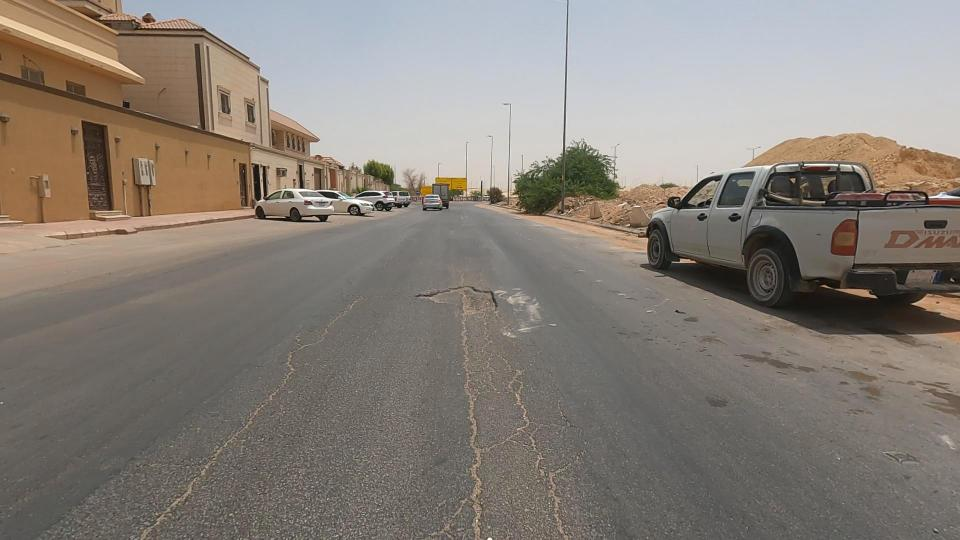POTHOLES: (326, 242, 587, 362)
